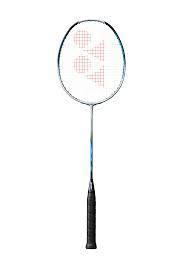badminton racket: (57, 19, 123, 250)
